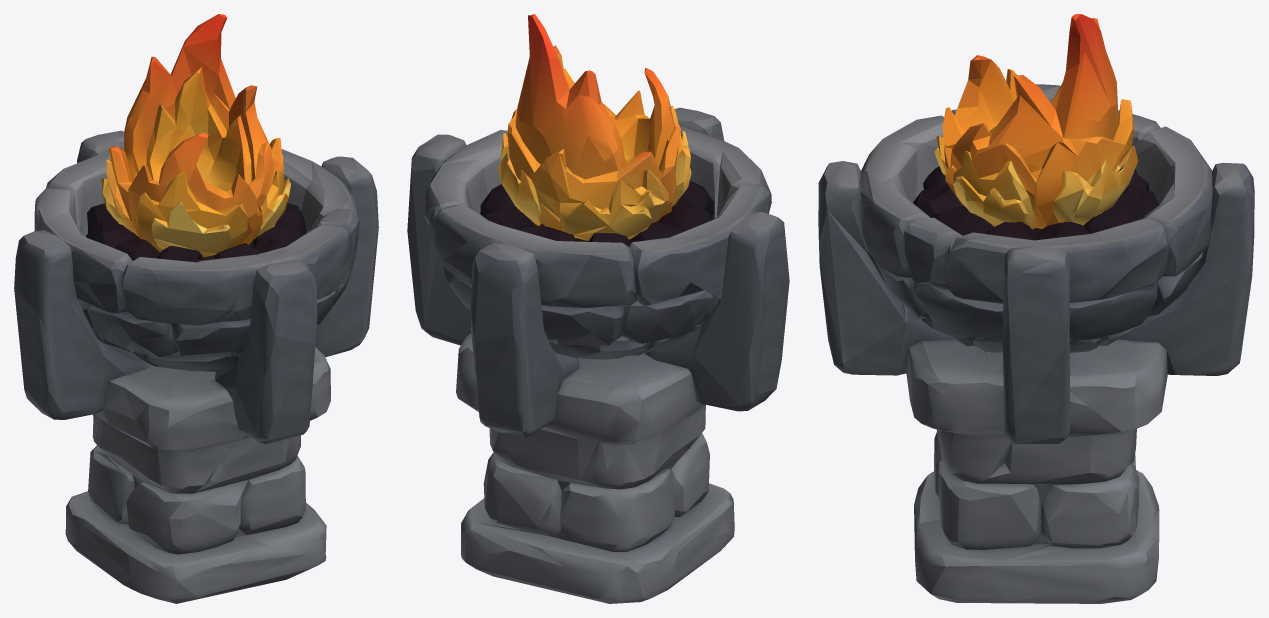
3 renders of one model, left to right at view 1: azimuth 30°, elevation 25°; view 2: azimuth 150°, elevation 25°; view 3: azimuth 270°, elevation 25°, orthographic. The views are drawn at different scales.
Size of the model in its own units: 1.32 by 1.9 by 1.32.
1 material, 1 textured.
